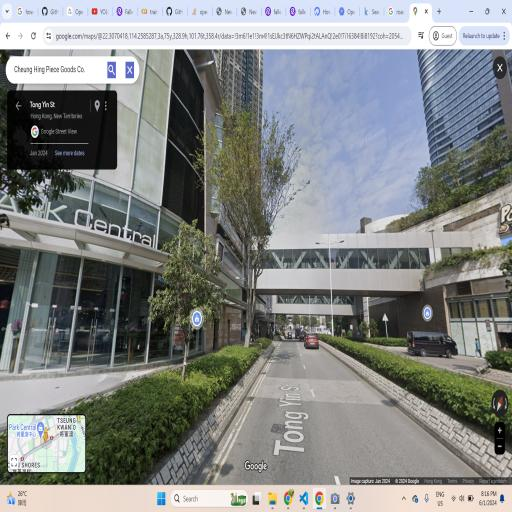Roads: (243, 381, 434, 470), (267, 322, 332, 476)
Trees: (184, 90, 314, 365), (141, 212, 226, 399)
